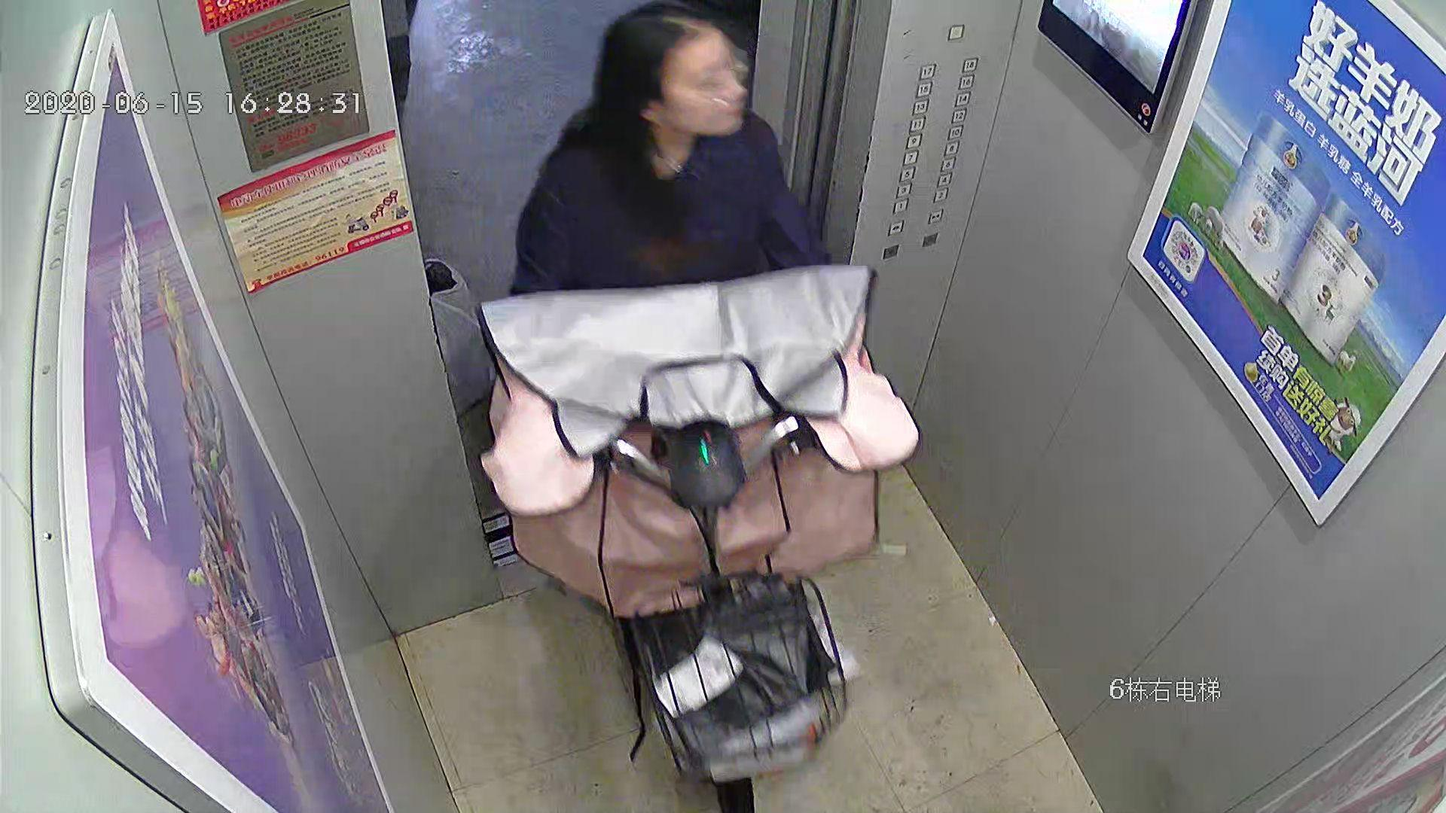Electric-bicycle: (530, 377, 884, 812)
